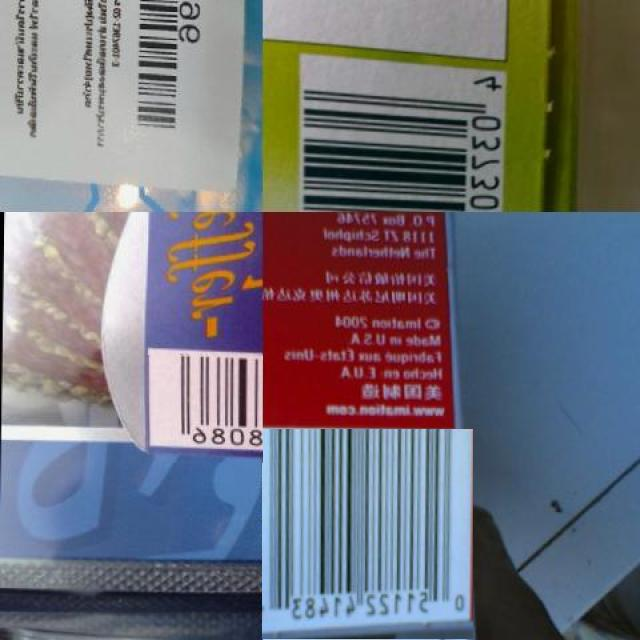Barcode: (262, 428, 474, 640), (296, 57, 508, 212), (146, 354, 262, 462), (131, 0, 205, 146)
